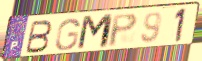1: (173, 7, 188, 45)
9: (140, 11, 164, 45)
B: (23, 19, 54, 55)
G: (54, 18, 82, 52)
M: (75, 13, 115, 52)
P: (108, 12, 140, 49)
